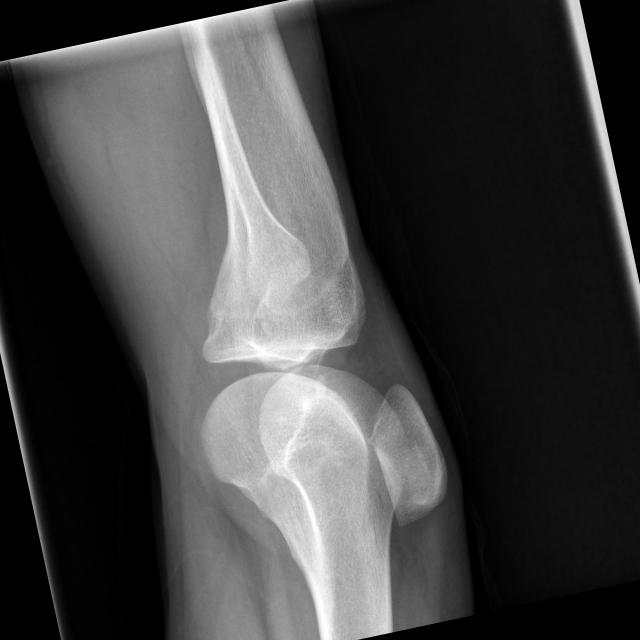Knee: (152, 221, 458, 584)
